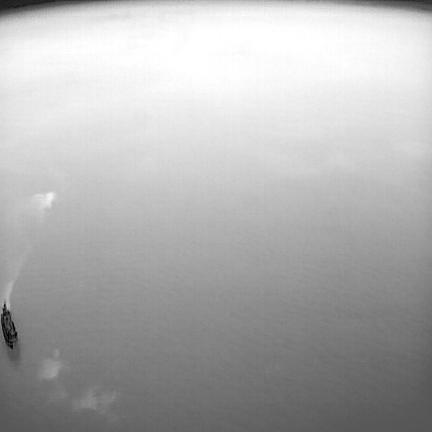flukeprints: (39, 350, 115, 418)
